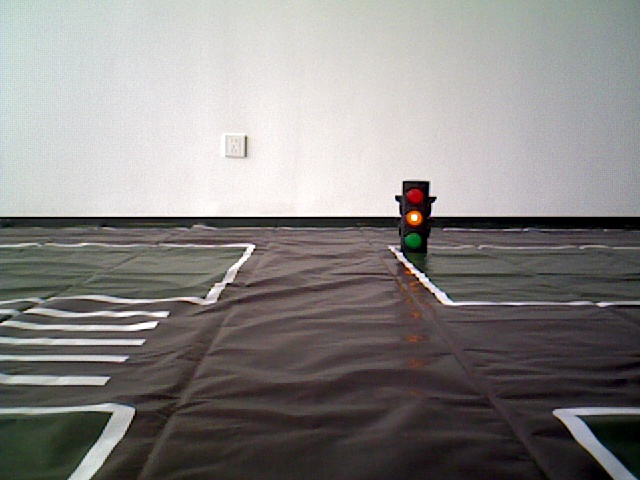yellow: (402, 179, 432, 261)
